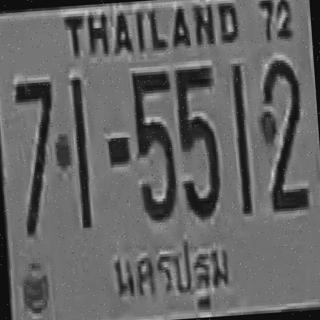N01: (230, 61, 251, 216), (71, 74, 92, 228)
N02: (257, 56, 308, 210)
N05: (173, 64, 221, 219), (130, 68, 178, 221)
N07: (13, 79, 61, 234)
P28: (104, 230, 238, 320)
